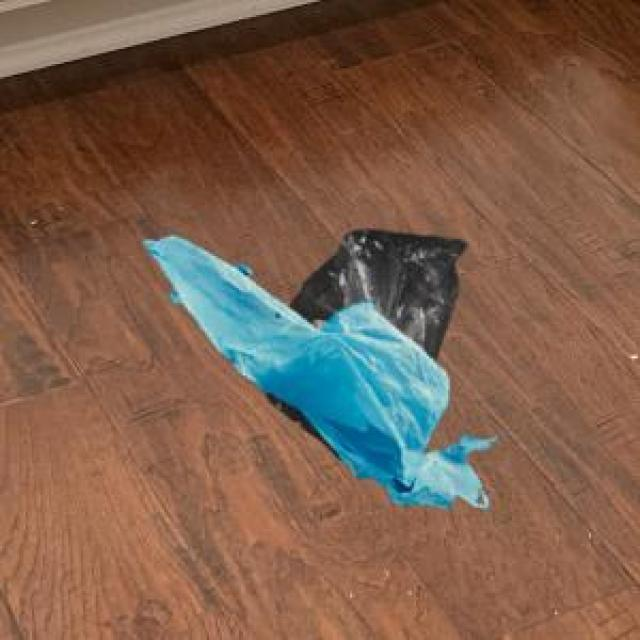waste: (144, 232, 494, 508)
